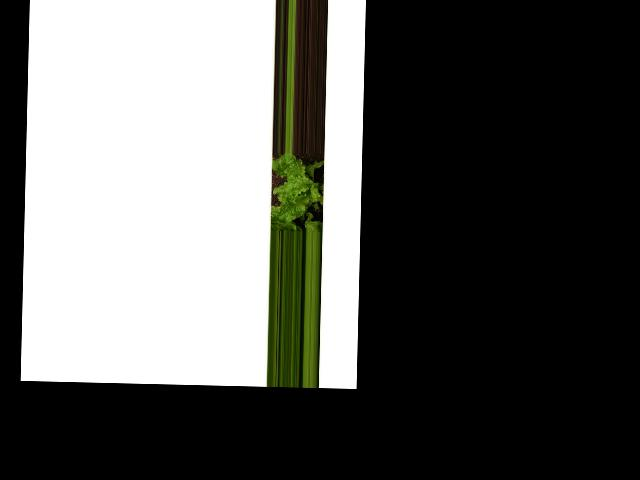lettuce: (272, 153, 328, 232)
